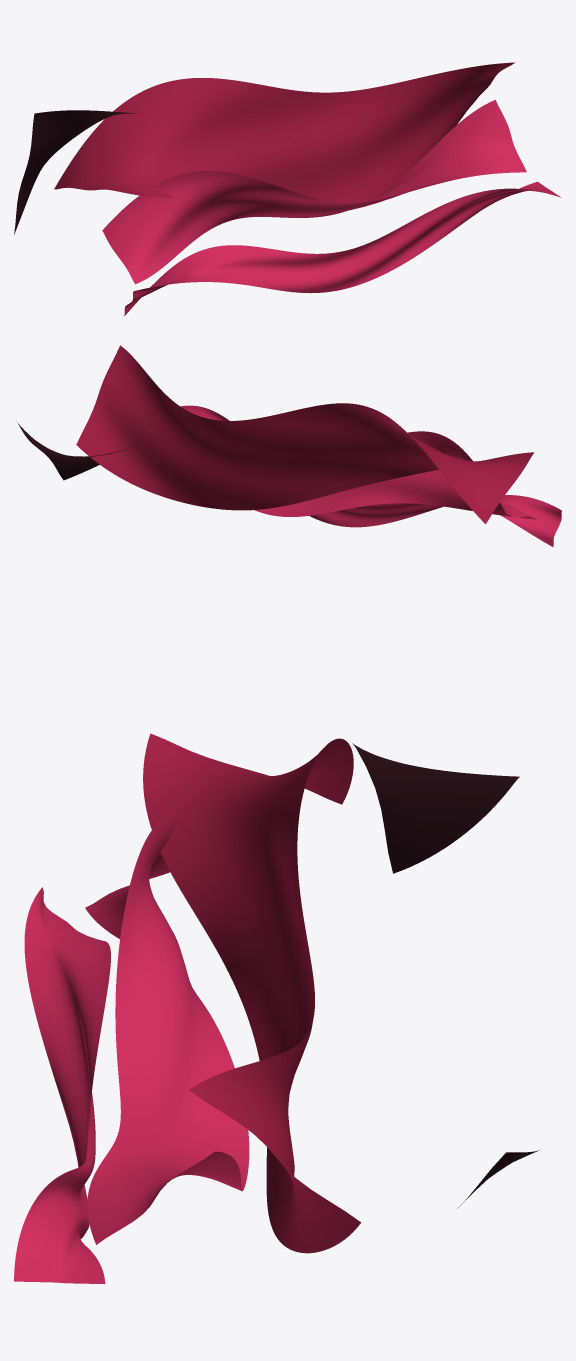
The model's file is silk.glb.
The picture shows the model from 3 angles, top to bottom: view 1: azimuth 30°, elevation 25°; view 2: azimuth 150°, elevation 25°; view 3: azimuth 270°, elevation 25°; orthographic projection. The views are drawn at different scales.
Visible parts, largest first — view 1: RibbonMid, RibbonFront, RibbonSash, RibbonBack; view 2: RibbonMid, RibbonFront, RibbonSash, RibbonBack; view 3: RibbonMid, RibbonFront, RibbonSash, RibbonBack.
Part boxes in pixels (x1=…): RibbonMid: x1=54, y1=62, x2=515, y2=202; RibbonFront: x1=102, y1=100, x2=526, y2=284; RibbonSash: x1=124, y1=181, x2=561, y2=315; RibbonBack: x1=14, y1=110, x2=141, y2=234; RibbonMid: x1=76, y1=345, x2=534, y2=524; RibbonFront: x1=199, y1=416, x2=536, y2=519; RibbonSash: x1=180, y1=405, x2=561, y2=546; RibbonBack: x1=17, y1=422, x2=131, y2=480; RibbonMid: x1=143, y1=733, x2=360, y2=1253; RibbonFront: x1=85, y1=816, x2=249, y2=1244; RibbonSash: x1=14, y1=887, x2=110, y2=1284; RibbonBack: x1=352, y1=743, x2=539, y2=1208.
Size of the model in its own units: 9 by 3.58 by 4.78.
